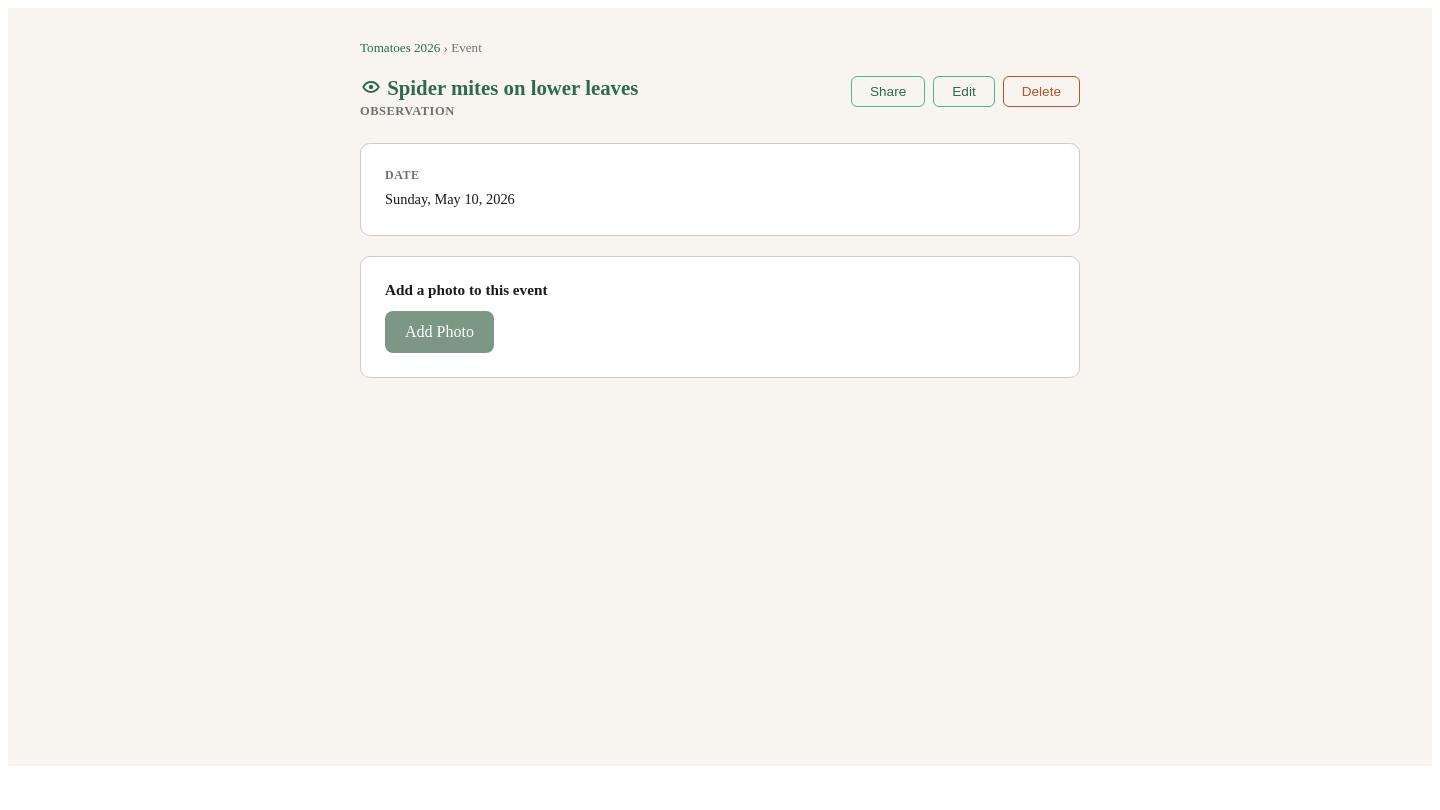
Test case: EventDetail — delete interposes EventDeleteConfirm (DD9 / W-EVTDEL) › a failed DELETE closes the sheet and surfaces the error inline (no navigation)
Click the button "Delete". click: (1041, 92)
box: [1003, 76, 1080, 107]
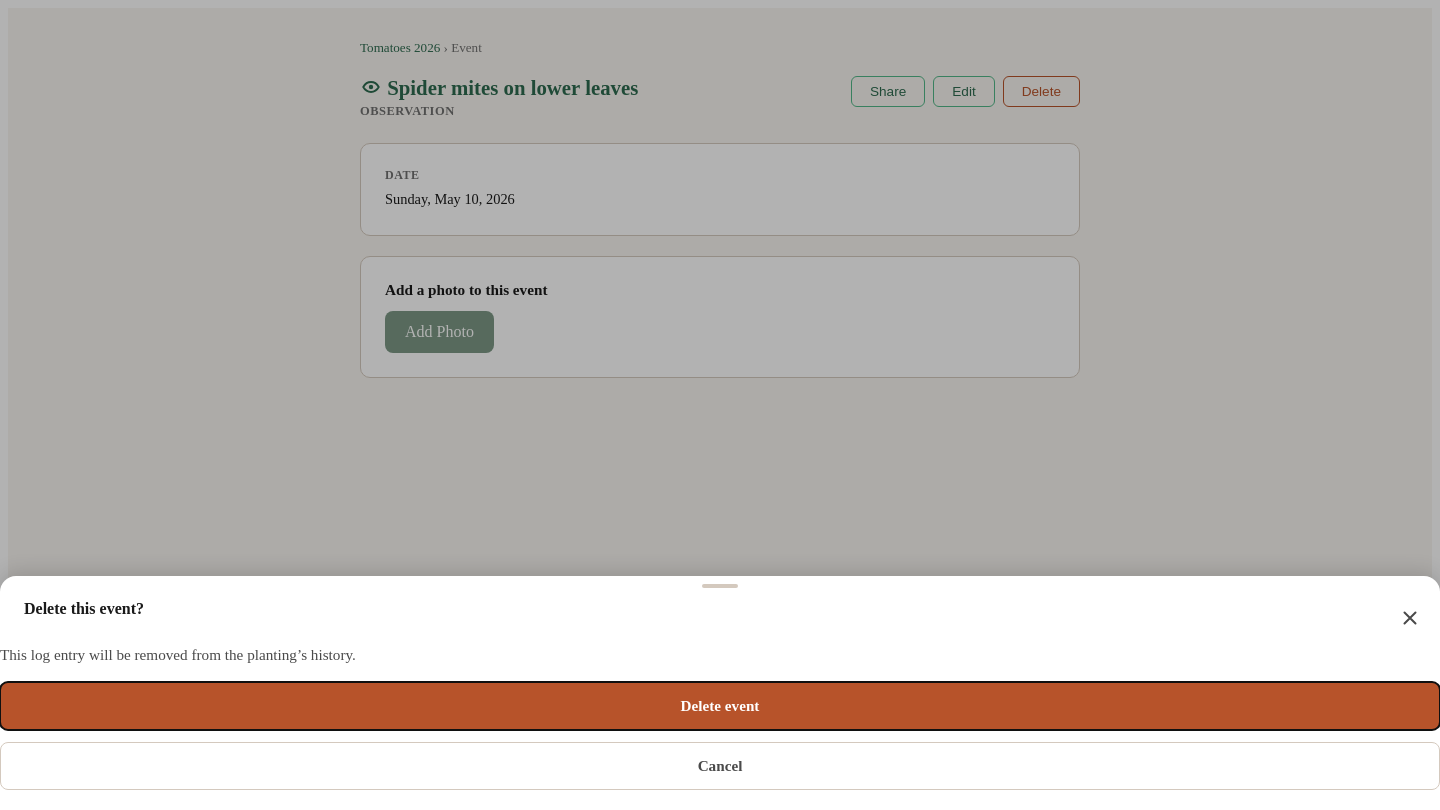
Click the button "Delete event". click: (720, 706)
box: [0, 682, 1439, 730]
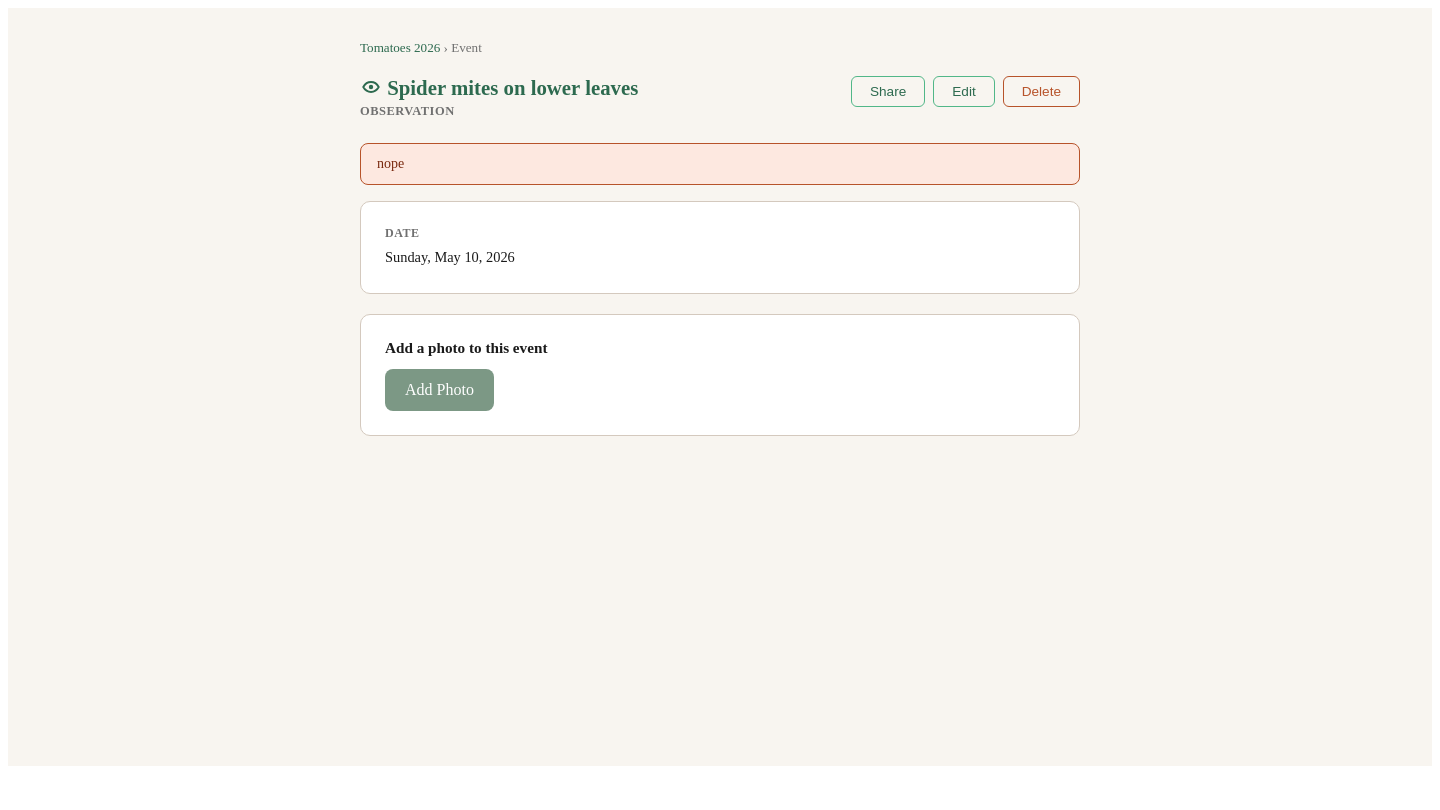
Expected: the dialog is gone
Expected: the text "nope" is shown, [360, 143, 1080, 185]
